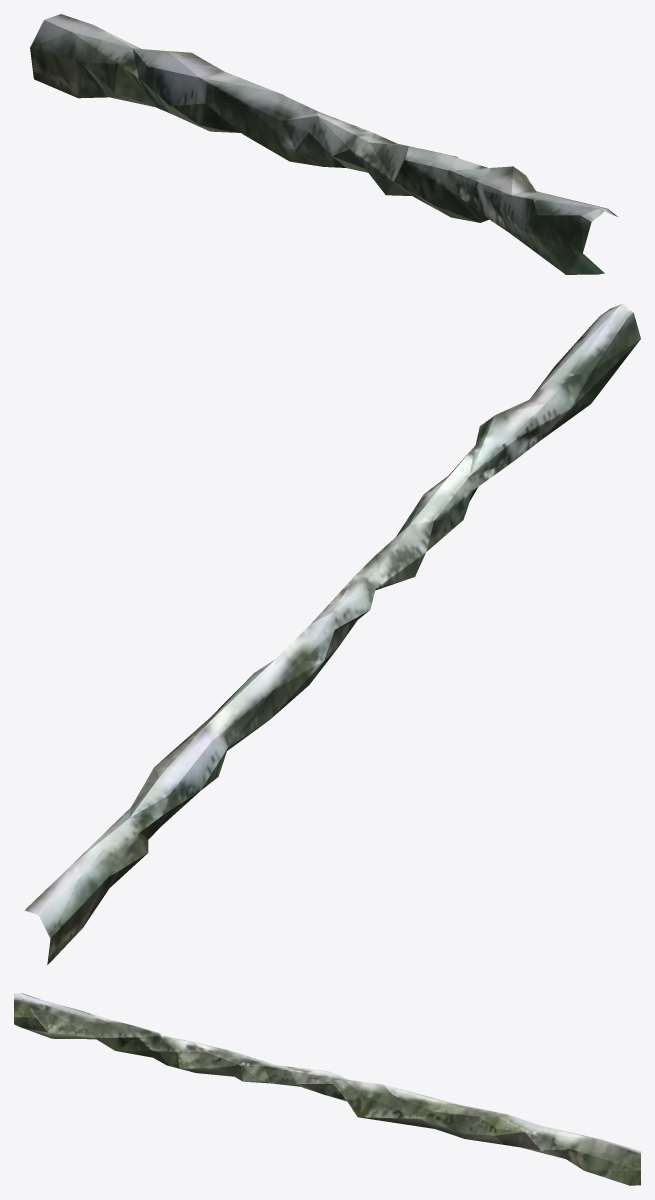
3 views of the same model, one above another, from view 1: azimuth 30°, elevation 25°; view 2: azimuth 150°, elevation 25°; view 3: azimuth 270°, elevation 25° (orthographic). The views are drawn at different scales.
Size of the model in its own units: 0.3192 by 0.8903 by 2.95.
1 material, 1 textured.
